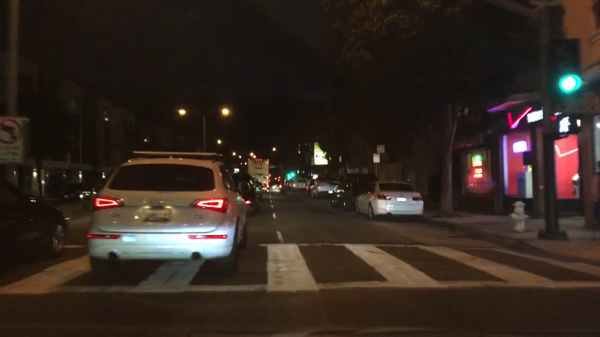bus: (246, 158, 271, 186)
car: (85, 150, 249, 278), (0, 179, 68, 259), (353, 180, 424, 221), (329, 172, 379, 213), (228, 172, 264, 217), (62, 183, 98, 204), (311, 174, 341, 199), (293, 177, 310, 191), (268, 180, 284, 194), (269, 170, 282, 184), (283, 179, 295, 191)
traffic light: (549, 37, 581, 97), (290, 171, 295, 177), (286, 173, 292, 178)
traffic sign: (1, 115, 29, 165), (377, 145, 385, 154), (372, 154, 380, 163)
